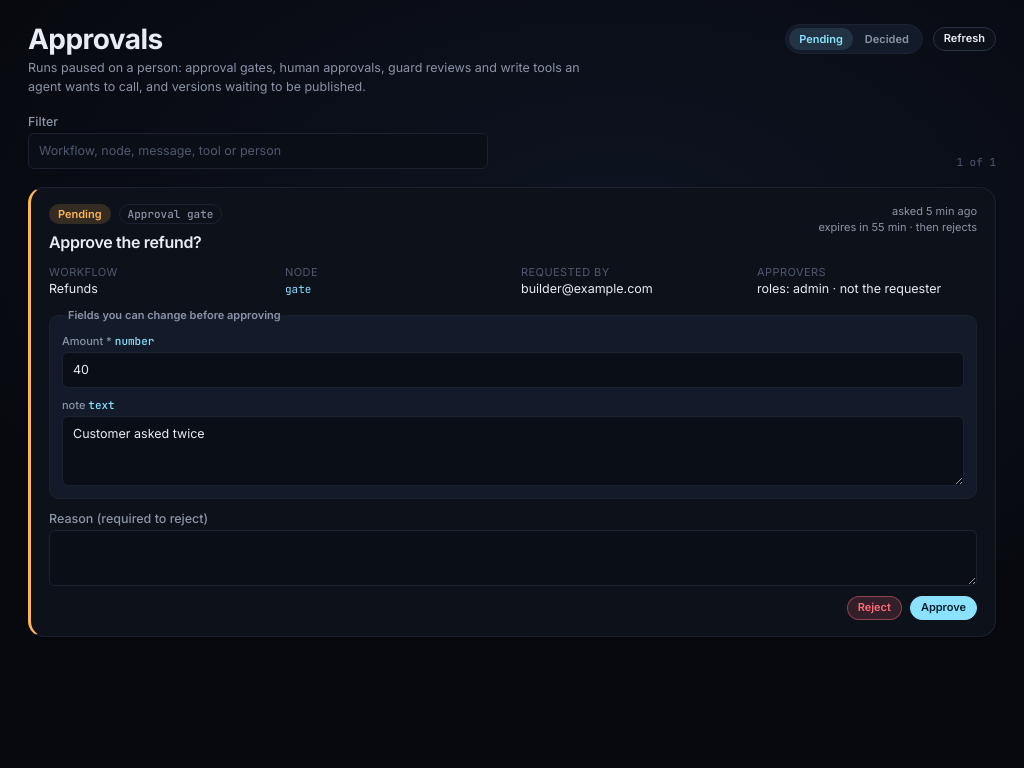
Test: ApprovalsPage › requires a reason to reject when the request says so
Click the button "Reject". click: (874, 608)
box: x1=847 y1=596 x2=902 y2=620
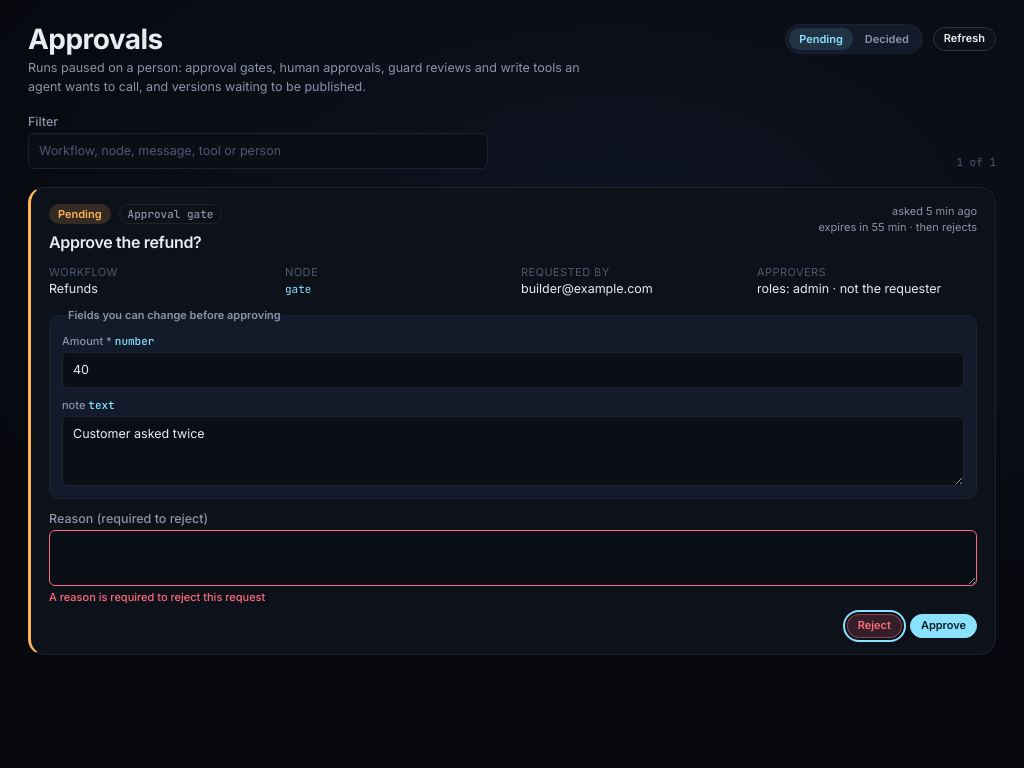
Expected: the text "A reason is required to reject this request" is shown, x1=49 y1=590 x2=265 y2=604
Type "Wrong customer" into the text box labelled "Reason". click: (513, 558)
box: x1=49 y1=530 x2=977 y2=586
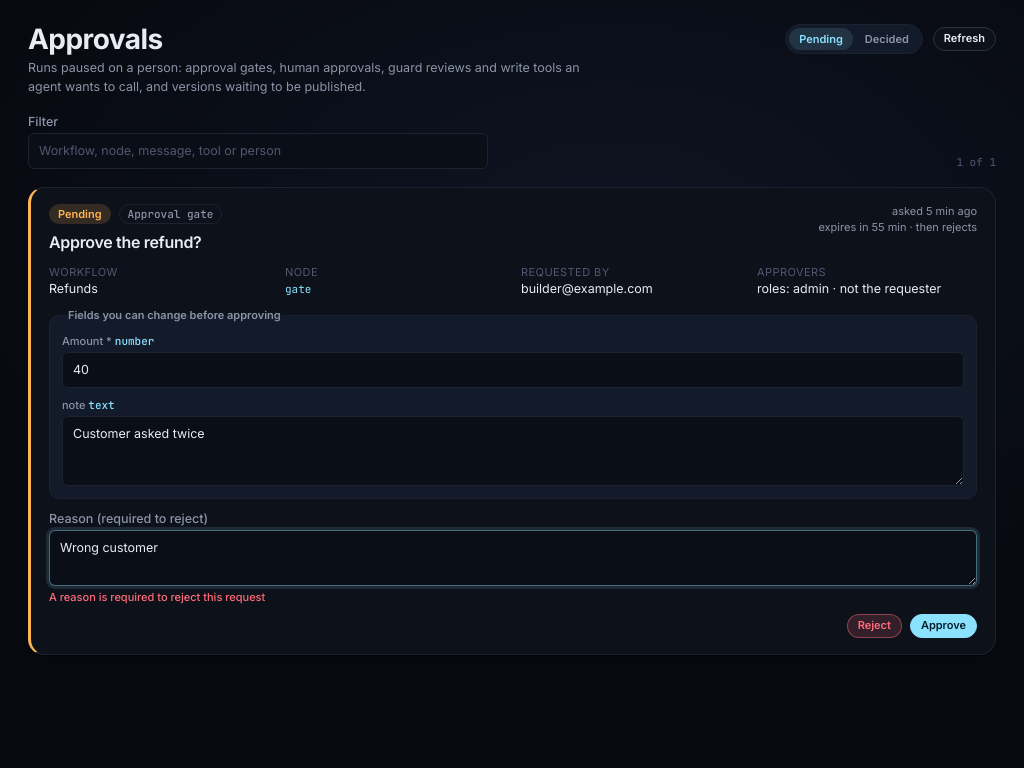
Click the button "Reject". click: (874, 626)
box: x1=847 y1=614 x2=902 y2=638
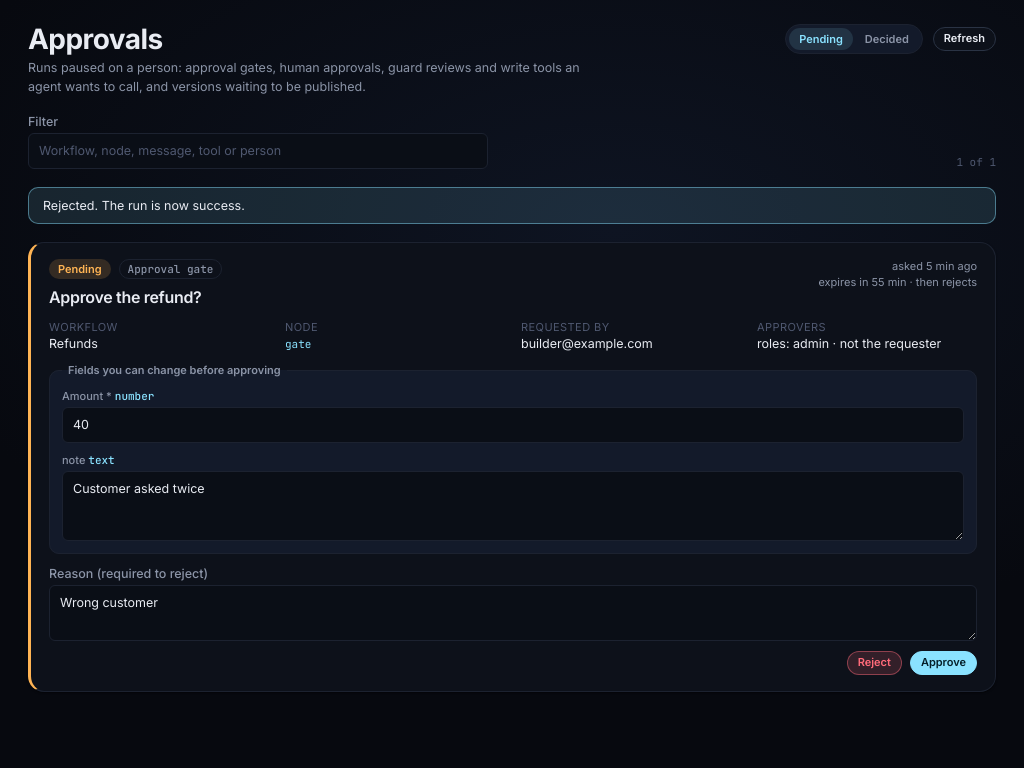
Expected: the text "Rejected. The run is now success." is shown, x1=28 y1=187 x2=996 y2=224
